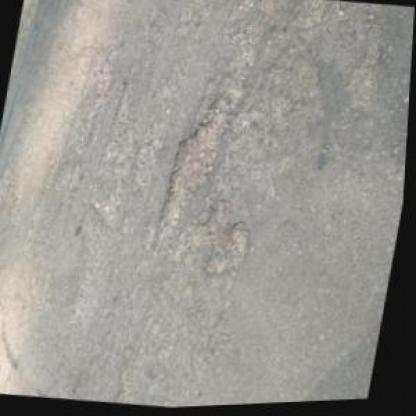pothole: (157, 87, 237, 243), (207, 218, 258, 280)
